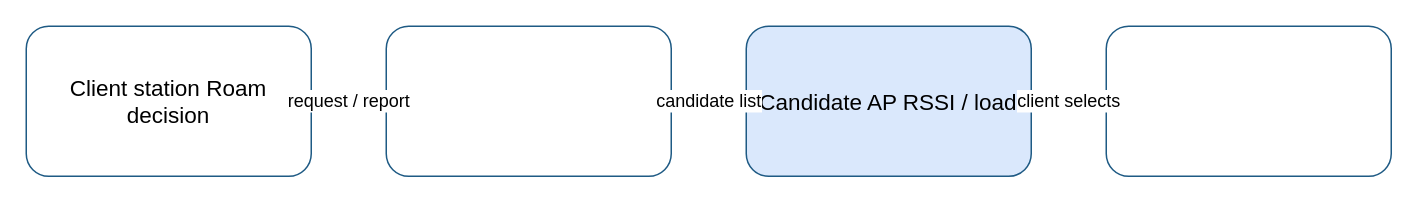
This 1418x203 diagram has some shape labels left out. The shapes that lost their labels are listed below. From the top down, each one's box as (x1, y1, x2, y2) in pixels, then its label:
(385, 25, 671, 176): Current AP 802.11k neighbor report
(1105, 25, 1391, 176): Reassociation 11v assist; 11r fast transition
